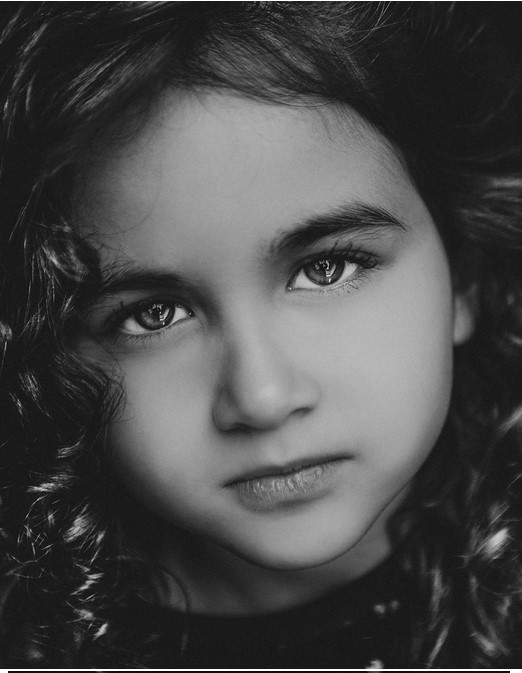face_no_mask: (28, 24, 474, 572)
